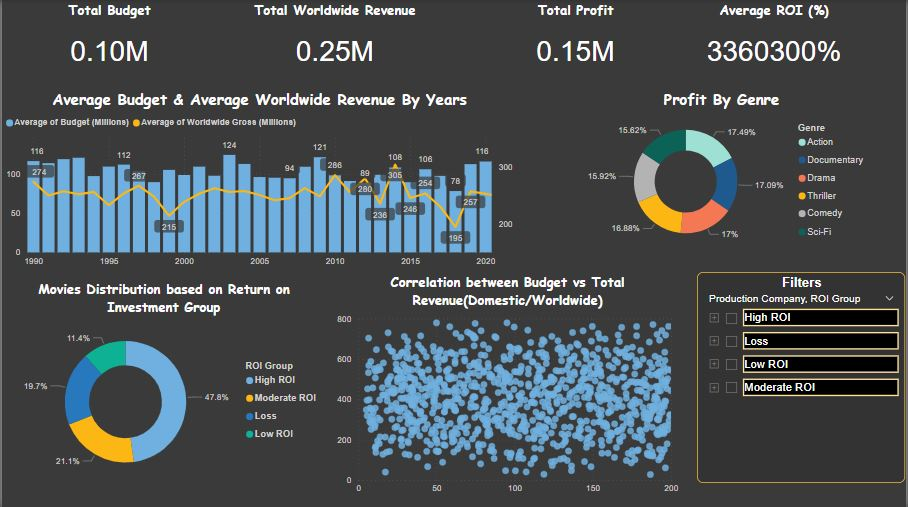

This screenshot's page, from the dashboard's own definition file:
{"tool":"powerbi","page":{"name":"Financial Analysis","canvas":[1280,720],"ordinal":0},"visuals":[{"type":"card","title":"Total  Budget","fields":{"Values":["MoviesMergedTable.Total Budget"]},"box":[10,0,285,116],"z":0},{"type":"card","title":"Total Worldwide Revenue","fields":{"Values":["MoviesMergedTable.Total Worldwide Revenue"]},"box":[295,0,354,116],"z":1000},{"type":"card","title":"Total Profit ","fields":{"Values":["MoviesMergedTable.Total Profit"]},"box":[662,0,302,116],"z":2000},{"type":"card","title":"Average ROI (%)","fields":{"Values":["MoviesMergedTable.Average ROI"]},"box":[954,0,281,116],"z":3000},{"type":"lineClusteredColumnComboChart","title":"Average Budget & Average Worldwide Revenue By Years","fields":{"Category":["MoviesMergedTable.Release Year"],"Y":["Avg(MoviesMergedTable.Budget (Millions))"],"Y2":["Avg(MoviesMergedTable.Worldwide Gross (Millions))"]},"box":[0,125,730,261],"z":4000},{"type":"donutChart","title":"Profit By Genre","fields":{"Category":["MoviesMergedTable.Genre"],"Y":["MoviesMergedTable.Total Profit"]},"box":[805,125,430,235],"z":5000},{"type":"donutChart","title":"Movies Distribution based on Return on Investment Group ","fields":{"Category":["MoviesMergedTable.ROI Group"],"Y":["CountNonNull(MoviesMergedTable.Title)"]},"box":[0,396,459,296],"z":6000},{"type":"scatterChart","title":"Correlation between Budget vs Total Revenue(Domestic/Worldwide)","fields":{"X":["MoviesMergedTable.Total Budget"],"Category":["MoviesMergedTable.Title"],"Y":["MoviesMergedTable.Total Revenue"]},"box":[469,386,495,323],"z":7000},{"type":"slicer","title":"Filters","fields":{"Values":["MoviesMergedTable.ROI Group","MoviesMergedTable.Production Company"]},"box":[980.1,420.2,299.8,299.8],"z":8001}]}

Visuals, with their boxes in screenshot pixels (x1, y1, x2, y2), scaled from the page's 1280x720 canvas onto the 908x507 screenshot:
"Total  Budget" card: (7, 0, 209, 82)
"Total Worldwide Revenue" card: (209, 0, 460, 82)
"Total Profit " card: (470, 0, 684, 82)
"Average ROI (%)" card: (677, 0, 876, 82)
"Average Budget & Average Worldwide Revenue By Years" lineClusteredColumnComboChart: (0, 88, 518, 272)
"Profit By Genre" donutChart: (571, 88, 876, 254)
"Movies Distribution based on Return on Investment Group " donutChart: (0, 279, 326, 487)
"Correlation between Budget vs Total Revenue(Domestic/Worldwide)" scatterChart: (333, 272, 684, 499)
"Filters" slicer: (695, 296, 907, 506)
